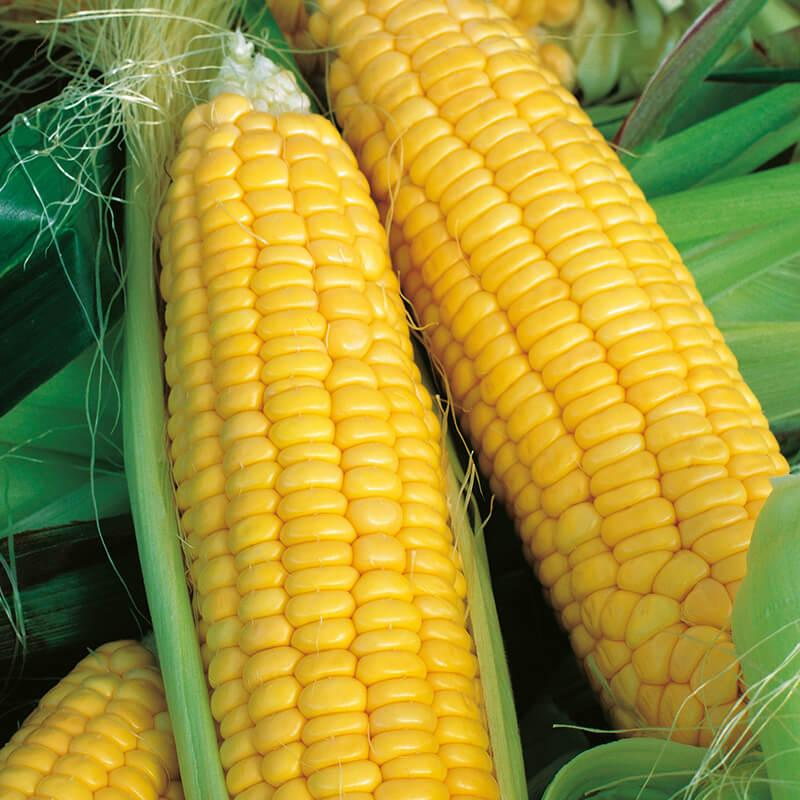sweetcorn: (280, 0, 790, 756), (155, 86, 500, 798), (19, 5, 296, 796), (0, 637, 183, 798)
